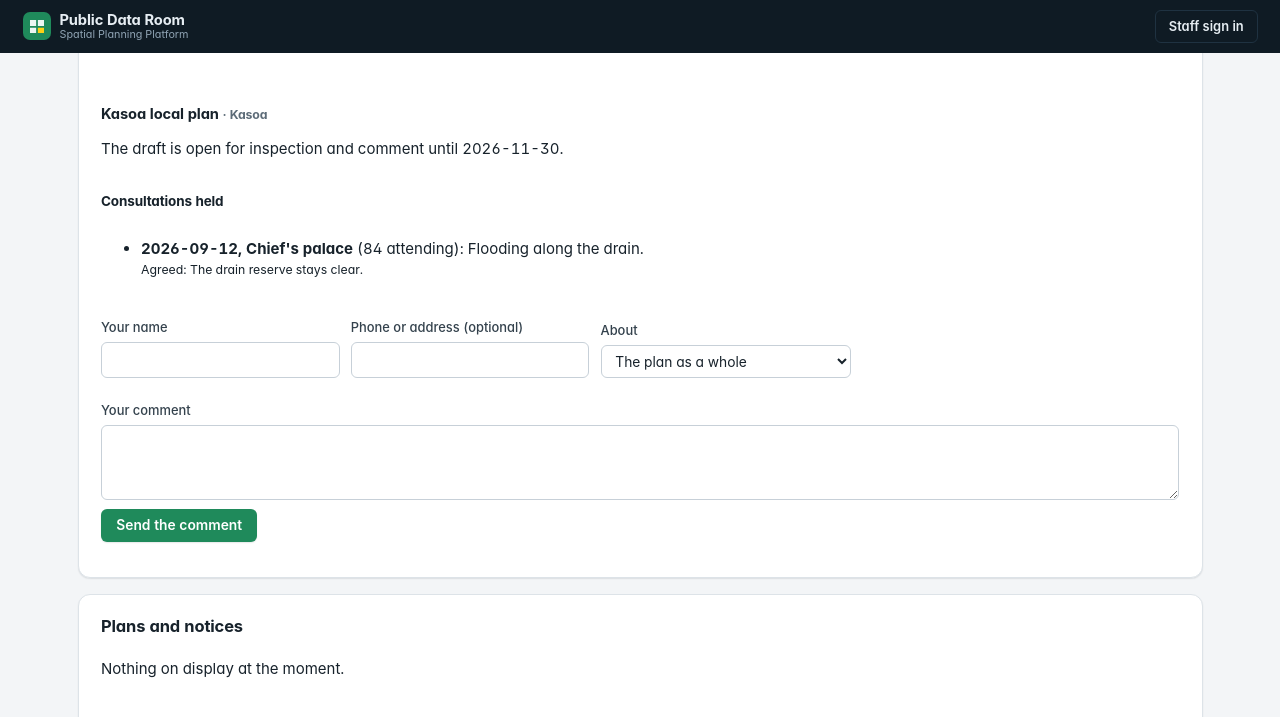
Test case: making a local plan › lets anyone read a plan's consultations and comment on its draft in the Public Data Room
(page scrolled)
Check: the element "Local plans being made" shows "The draft is open for inspection and comment until 2026-11-30.", box x1=101 y1=139 x2=564 y2=158
Type "Akua Sarpong" into the field named "Your name, for Kasoa local plan" at coordinates (220, 360), box x1=101 y1=342 x2=340 y2=378
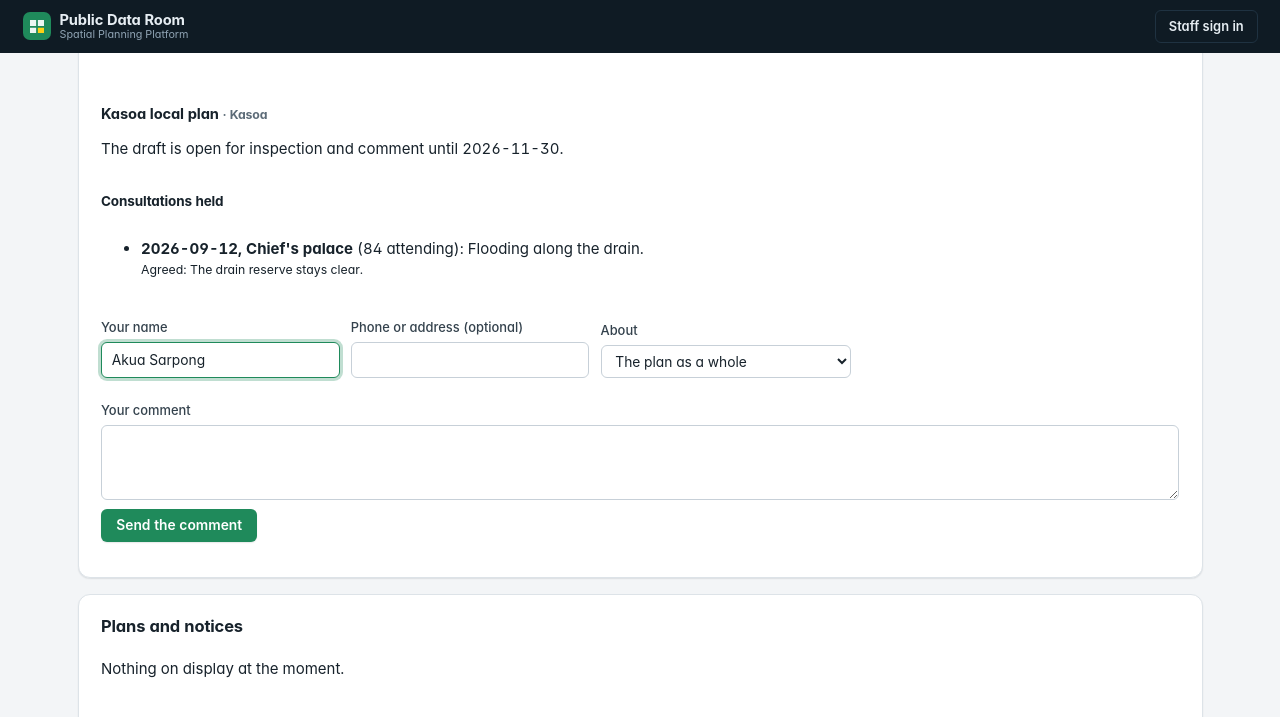
Select "Road network and circulation" in the dropdown named "About, for Kasoa local plan" at coordinates (726, 362), box x1=600 y1=345 x2=851 y2=378
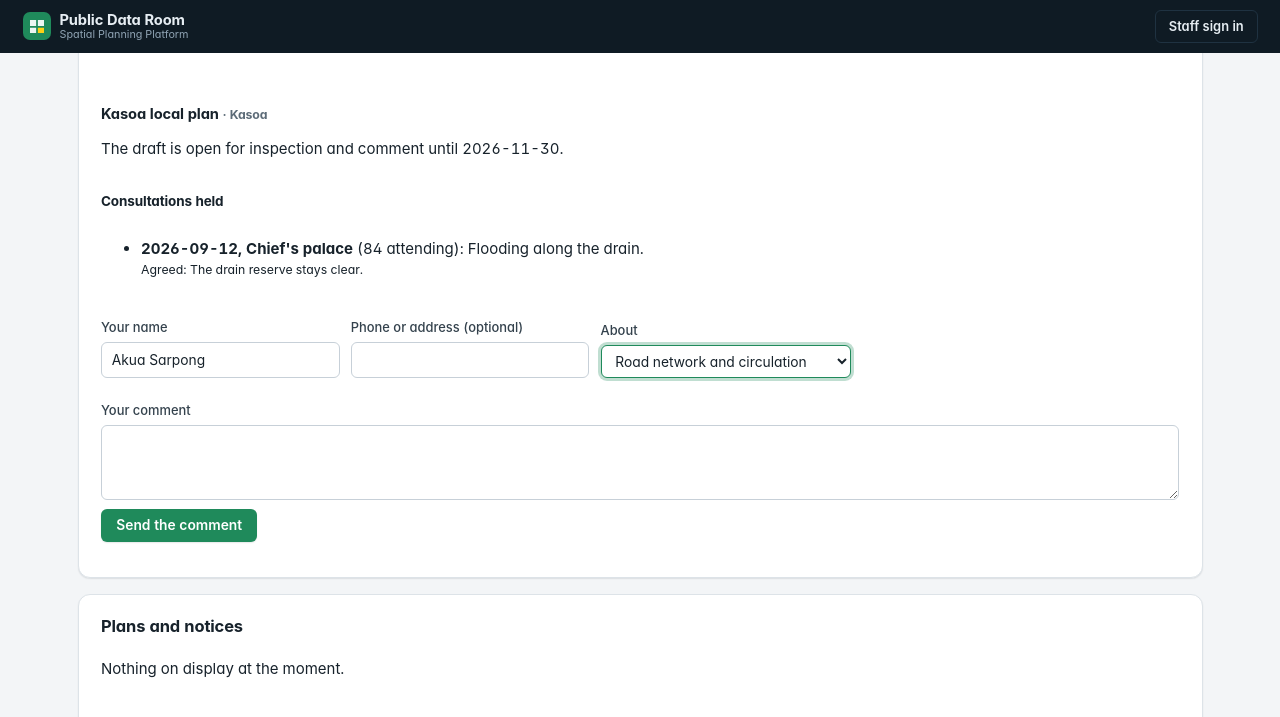
Type "The market road needs a walkway." into the text box named "Your comment on Kasoa local plan" at coordinates (640, 462), box x1=101 y1=425 x2=1179 y2=500
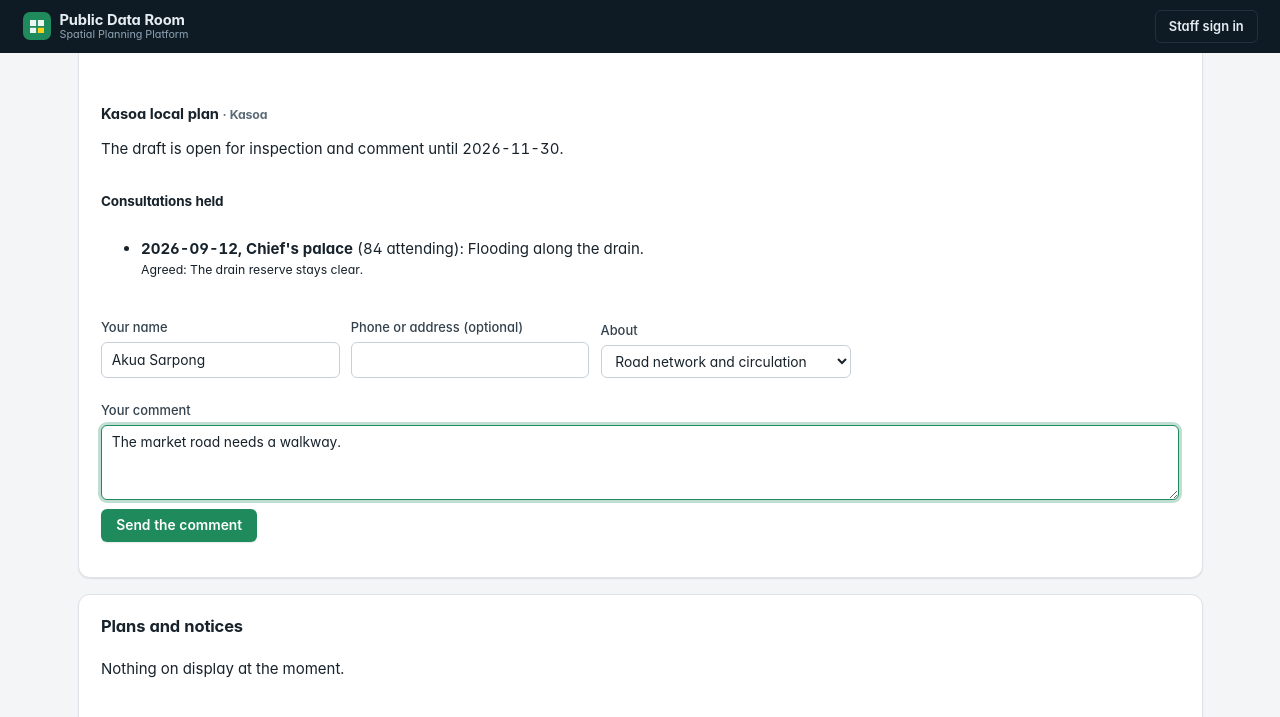
Click the button "Send the comment" at coordinates (179, 526), box x1=101 y1=509 x2=257 y2=542
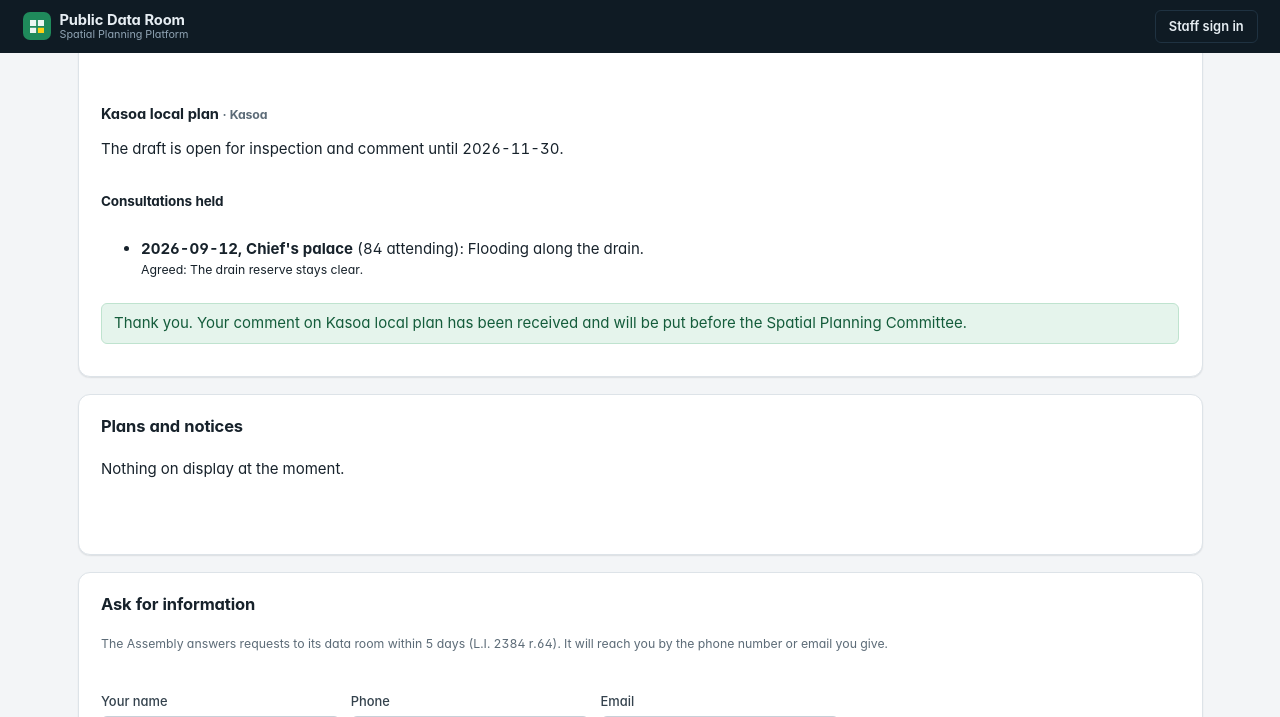
Check: the message shows "Your comment on Kasoa local plan has been received", box x1=101 y1=303 x2=1179 y2=344
